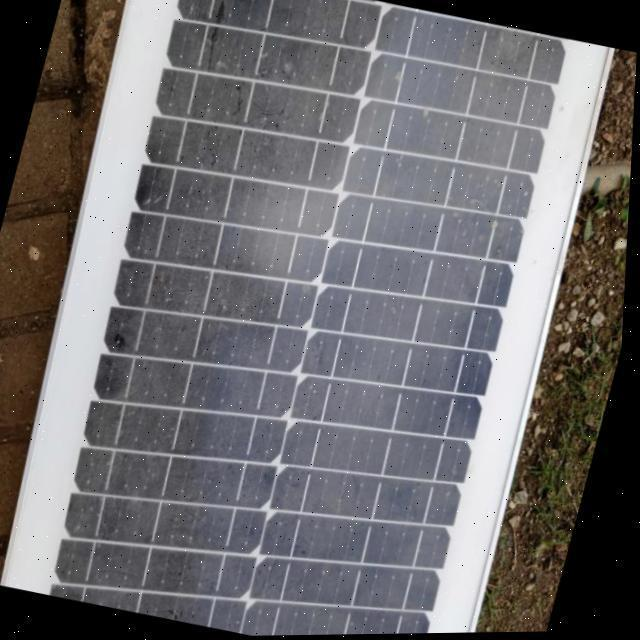Anomaly Solar Panel: (18, 0, 598, 639)
Surface Contaminant: (21, 0, 596, 636)
